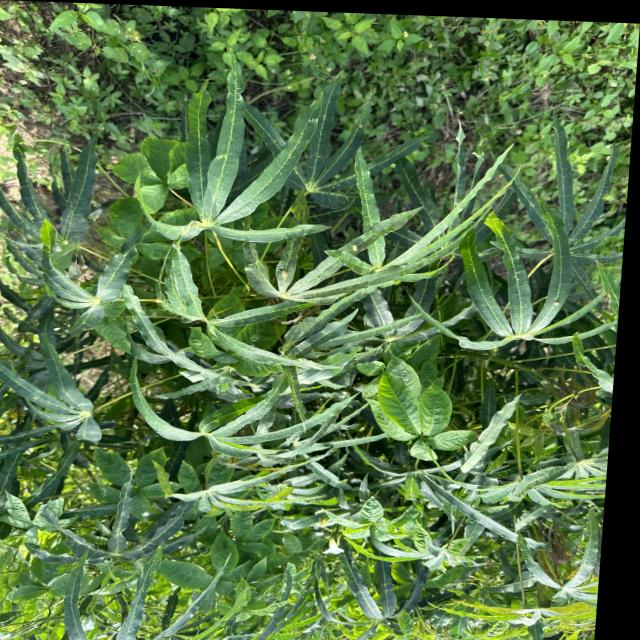Maleza: (398, 18, 632, 126), (17, 0, 180, 117), (360, 365, 469, 465), (75, 194, 183, 261), (169, 526, 249, 603), (109, 136, 195, 204), (96, 446, 177, 512)
Mosca: (278, 266, 294, 283), (348, 240, 360, 258), (551, 297, 563, 310)
